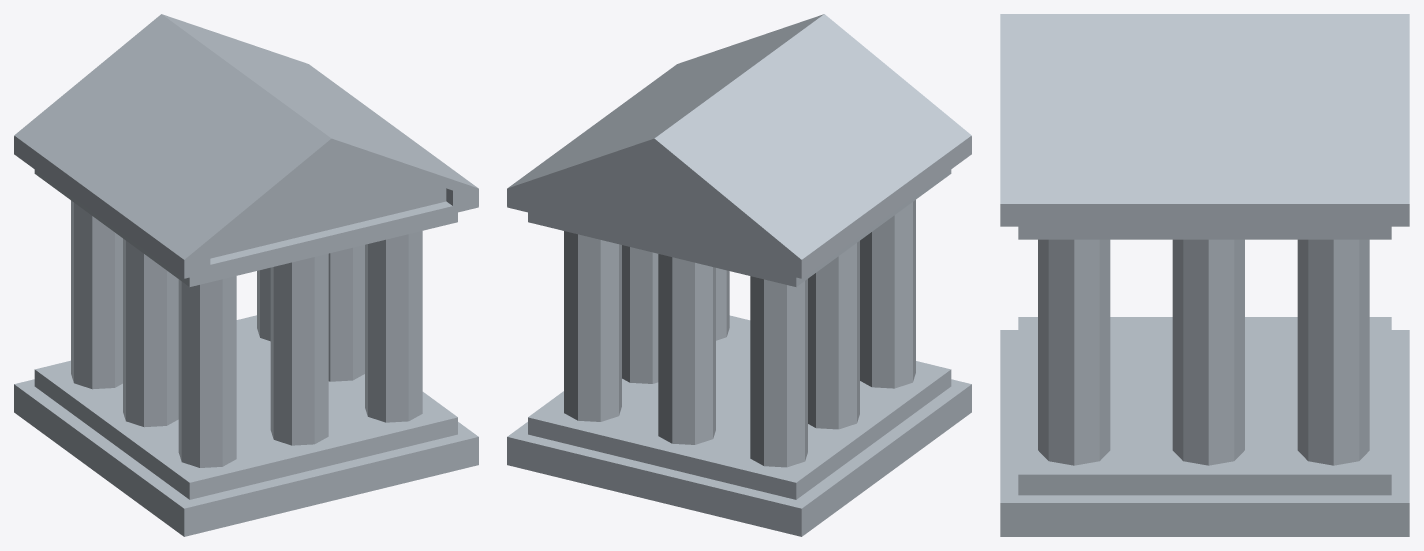
File: government.gltf
3 renders of one model, left to right at view 1: azimuth 30°, elevation 25°; view 2: azimuth 150°, elevation 25°; view 3: azimuth 270°, elevation 25°, orthographic. The views are drawn at different scales.
Parts seen in each view (by area): view 1: Government; view 2: Government; view 3: Government.
Part boxes in pixels (x1,y1,x2,y2): Government: [14, 14, 478, 536]; Government: [507, 14, 971, 536]; Government: [1000, 14, 1409, 536].
Bounding box in the file's own units: 0.9361 × 1.1 × 0.9359.
Materials: 1 (1 with a texture image).
